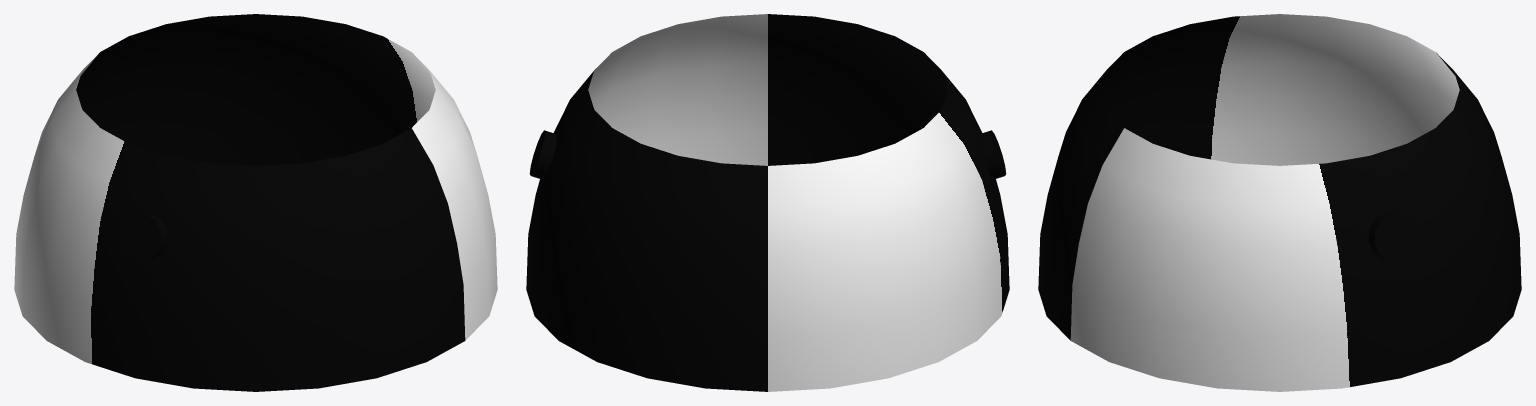
Rendered from hamal_adapter_s1_s0p5_1_blanket.obj.
3 renders of one model, left to right at view 1: azimuth 30°, elevation 25°; view 2: azimuth 150°, elevation 25°; view 3: azimuth 270°, elevation 25°, orthographic.
Parts seen in each view (by area): view 1: 2; view 2: 2; view 3: 2.
Boxes of the visible parts, x1,y1,x2,y2 form: 2: (14,14,497,391); 2: (526,14,1009,391); 2: (1038,14,1521,391).
Bounding box in the file's own units: 1.26 × 0.575 × 1.26.
